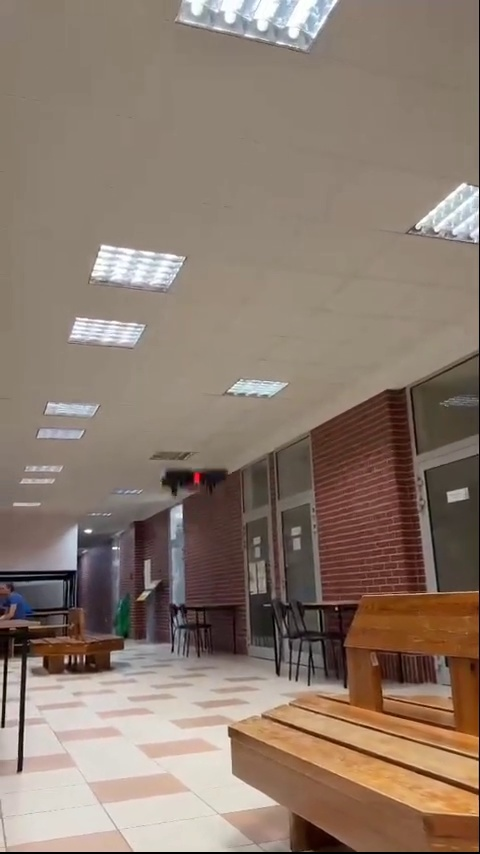drone: (162, 464, 230, 497)
no vest: (0, 582, 34, 629)
